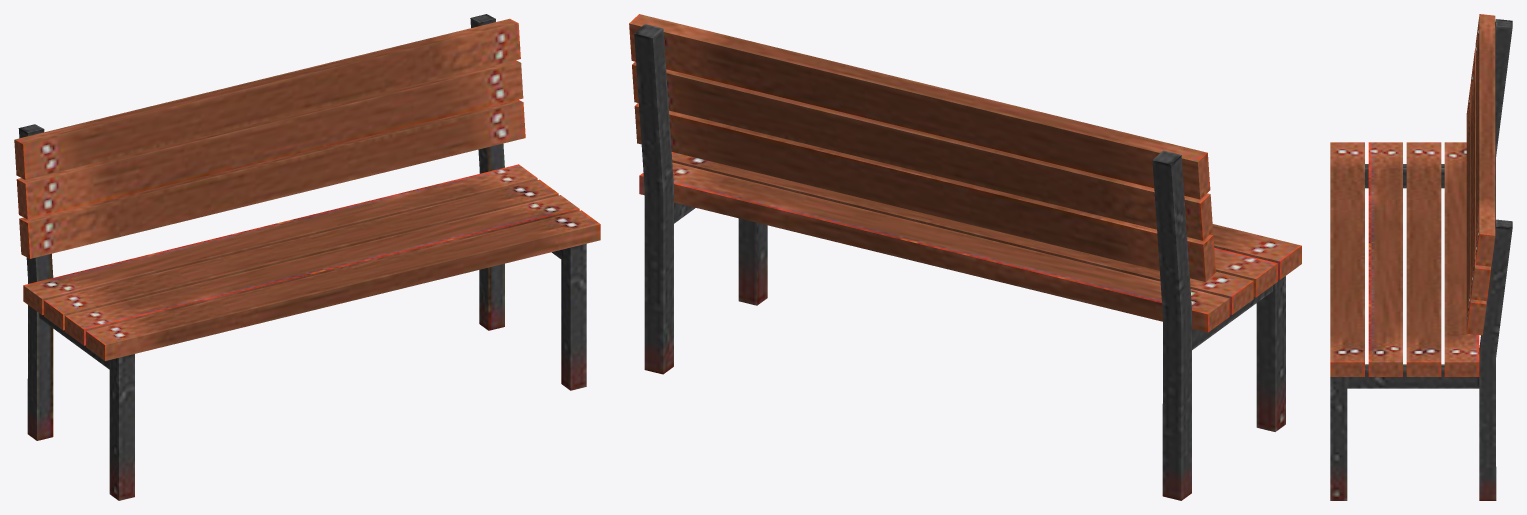
File: Bancomonoblock.fbx
3 views of the same model, side by side, from view 1: azimuth 30°, elevation 25°; view 2: azimuth 150°, elevation 25°; view 3: azimuth 270°, elevation 25° (orthographic). The views are drawn at different scales.
Visible parts, largest first — view 1: Bench; view 2: Bench; view 3: Bench.
Part boxes in pixels (x1=…): Bench: x1=14, y1=14, x2=600, y2=500; Bench: x1=629, y1=14, x2=1301, y2=500; Bench: x1=1330, y1=14, x2=1512, y2=500.
Bounding box in the file's own units: 175 × 102 × 61.24.
1 material, 1 textured.
